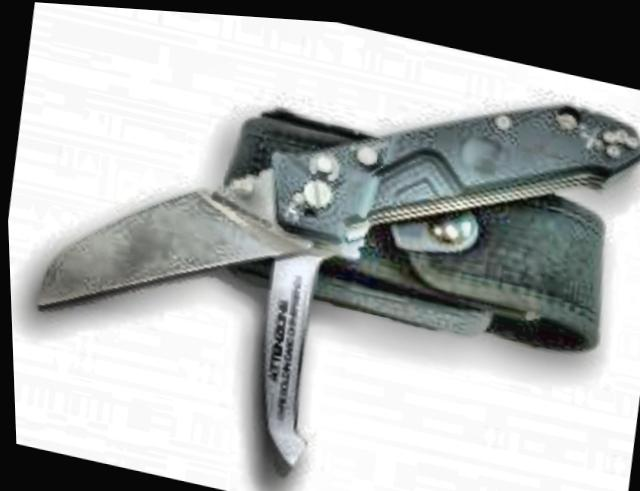knife: (12, 112, 309, 370)
